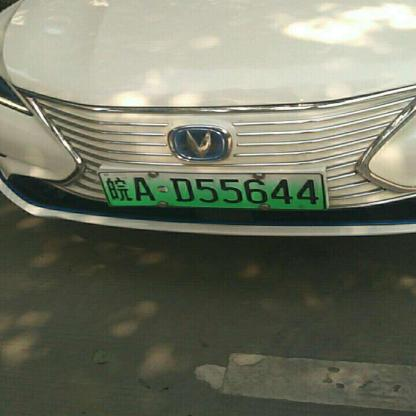lp: (99, 172, 324, 208)
